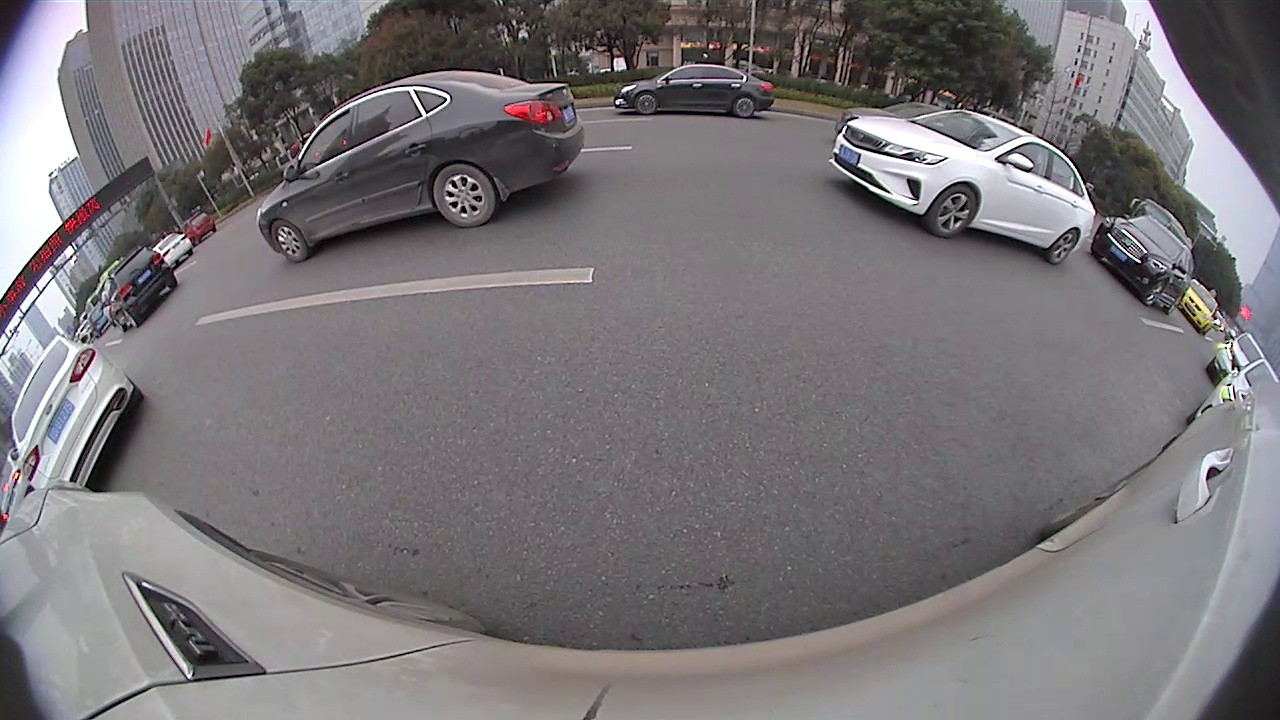car: (253, 66, 587, 267), (826, 106, 1101, 270), (9, 331, 145, 494), (1089, 211, 1196, 315), (614, 63, 774, 122), (104, 240, 179, 330)
front: (928, 185, 978, 238), (268, 218, 308, 265), (1143, 279, 1165, 309), (633, 92, 657, 116)
rear: (430, 160, 499, 228), (1049, 228, 1080, 266), (733, 97, 754, 118)
